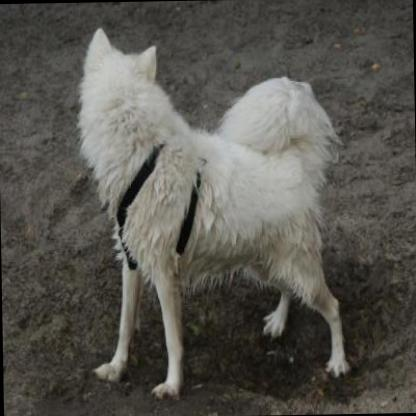Samoyed: (69, 20, 350, 400)
